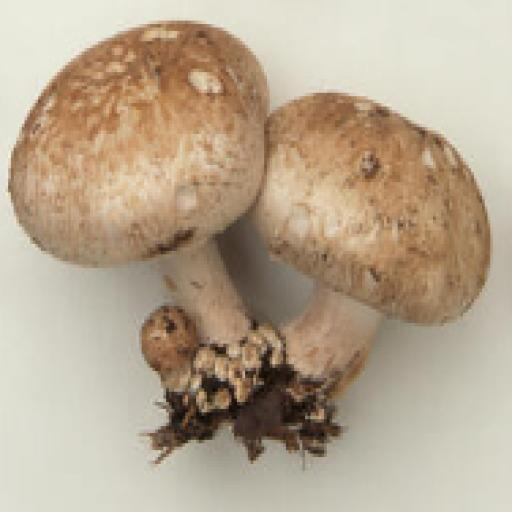mushroom: (7, 20, 272, 422), (262, 74, 494, 441)
